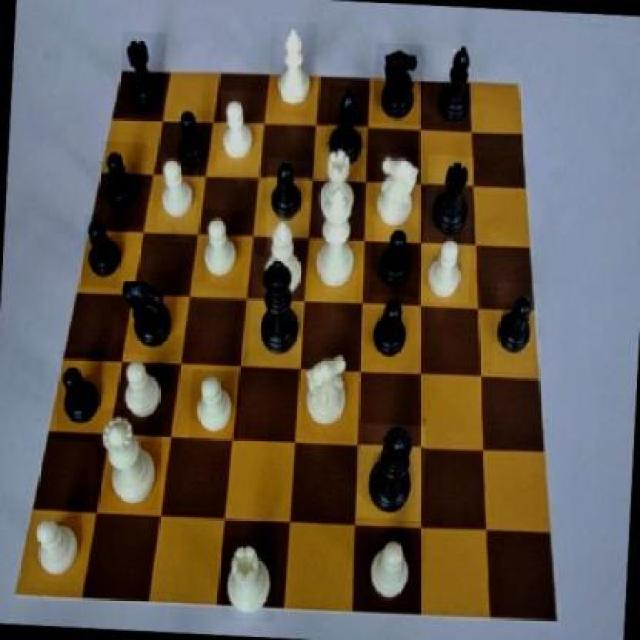bishop: (432, 41, 480, 132), (324, 86, 372, 176)
black-bishop: (248, 257, 307, 369)
black-king: (117, 269, 181, 360), (372, 43, 426, 125)
black-knight: (494, 282, 541, 374), (97, 142, 147, 228), (56, 351, 102, 443), (370, 220, 422, 300), (368, 294, 414, 374), (81, 214, 128, 289), (266, 160, 311, 232), (171, 105, 214, 180)
black-pawn: (356, 424, 426, 522)
black-queen: (424, 156, 474, 240), (120, 32, 168, 117)
black-rook: (268, 22, 318, 118), (263, 215, 308, 303)
white-bishop: (310, 191, 362, 304)
white-king: (300, 342, 357, 442), (374, 153, 424, 244)
white-knight: (365, 532, 427, 615), (28, 511, 85, 592), (420, 220, 472, 305), (217, 91, 265, 174), (200, 209, 247, 292), (120, 354, 168, 434), (190, 371, 242, 443), (158, 158, 200, 232)
white-pawn: (94, 409, 163, 517)
white-queen: (223, 534, 280, 623), (315, 148, 368, 232)
